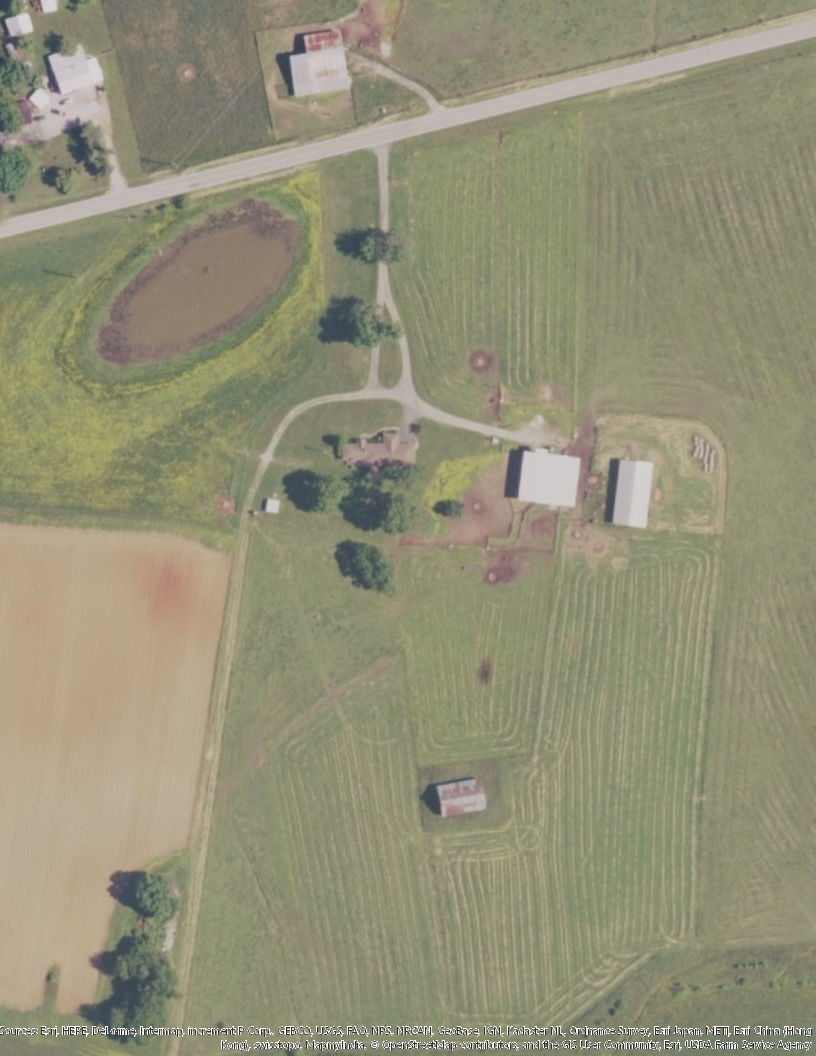cafo: (610, 457, 656, 530)
